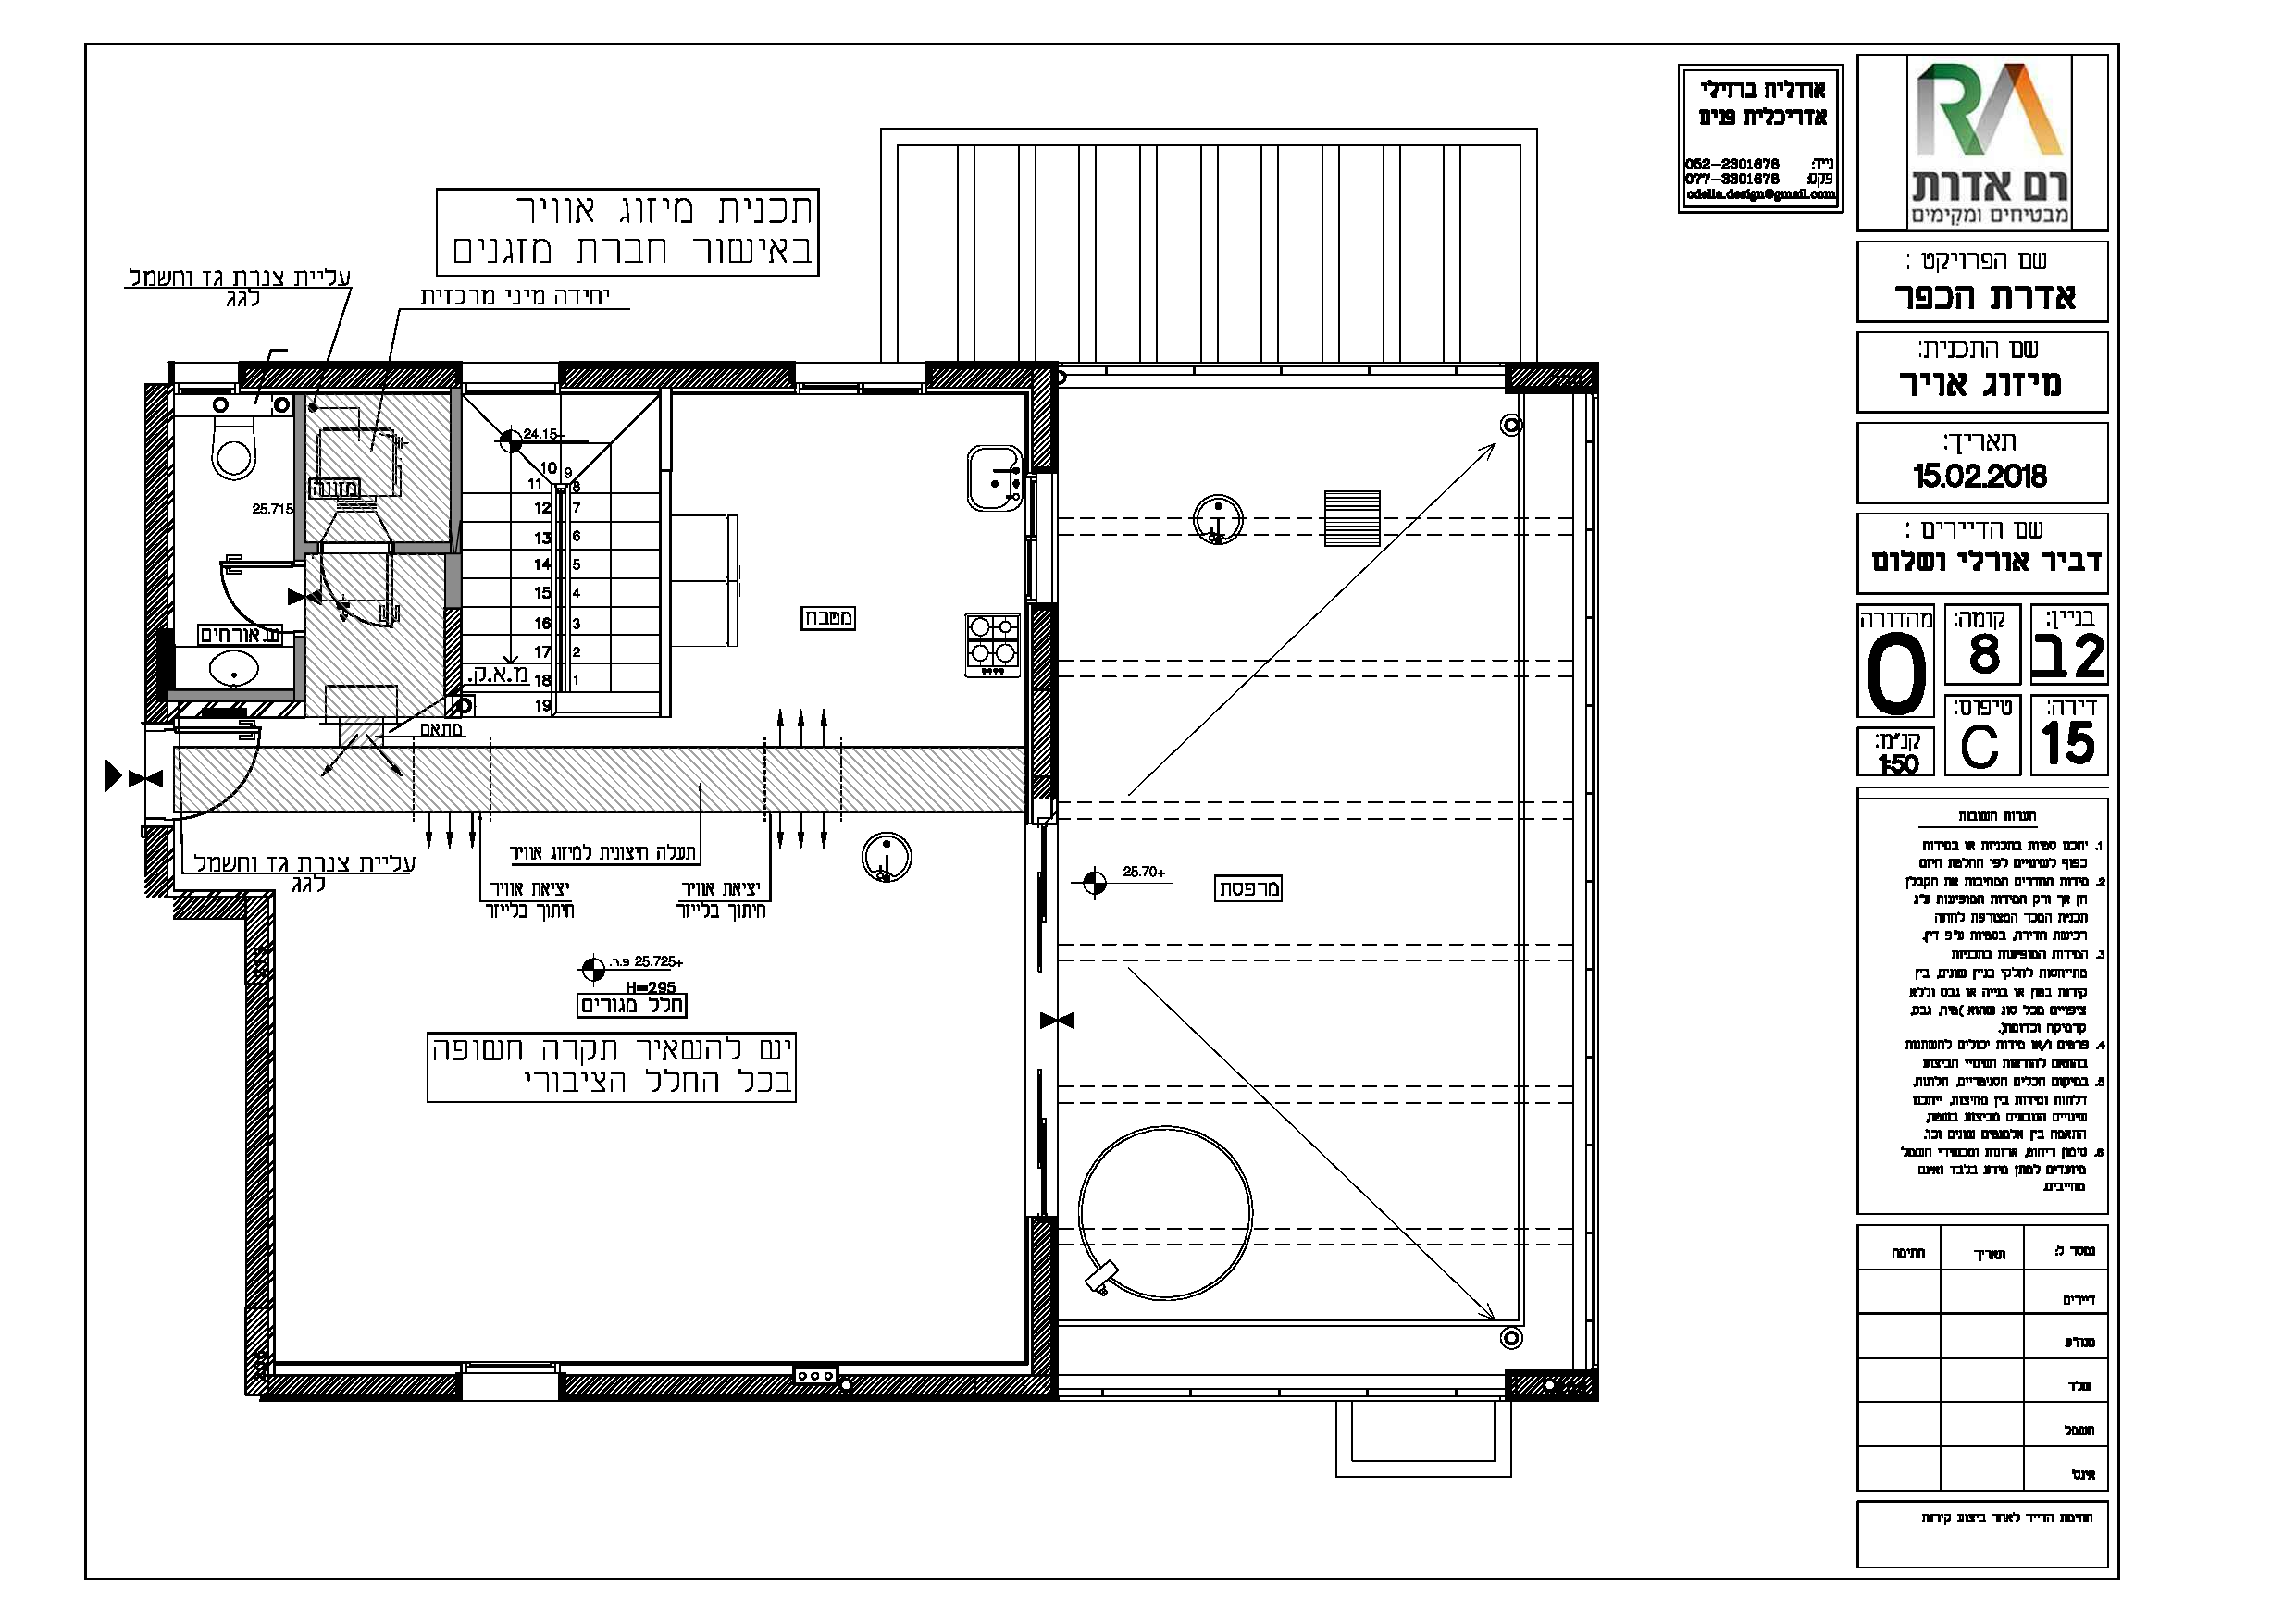wall: (562, 1374, 1054, 1405), (242, 896, 272, 1391), (142, 385, 172, 724), (562, 360, 792, 393)
